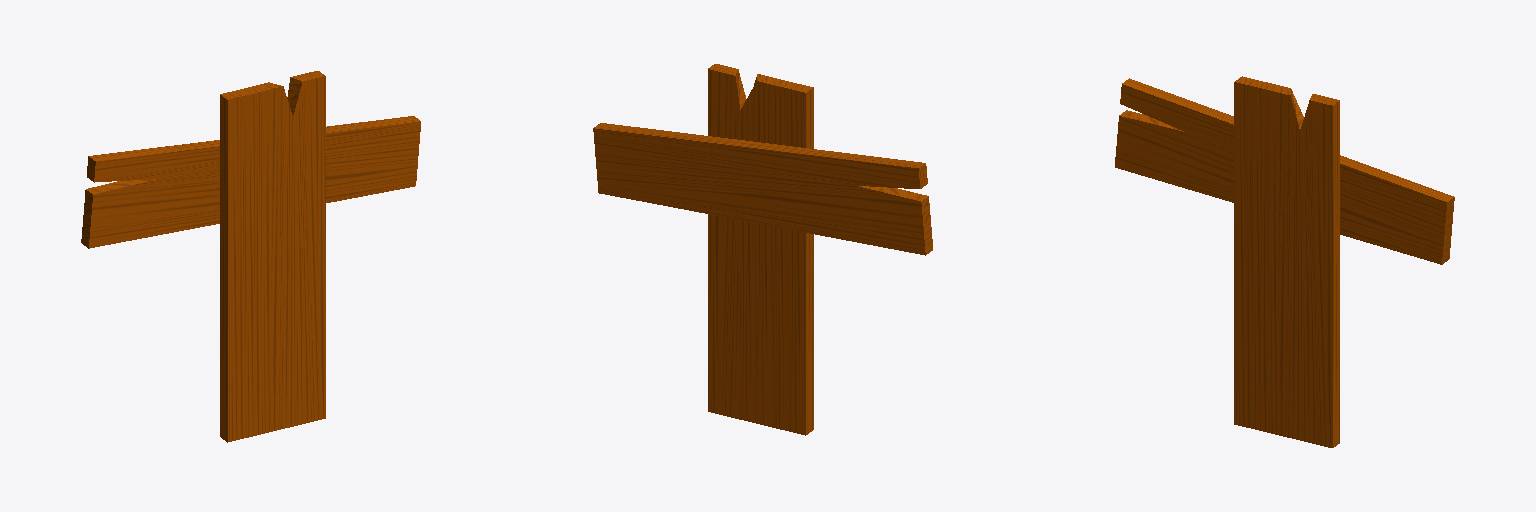
The picture shows the model from 3 angles: view 1: azimuth 30°, elevation 25°; view 2: azimuth 150°, elevation 25°; view 3: azimuth 330°, elevation 25°; orthographic projection.
Parts seen in each view (by area): view 1: Cube.002; view 2: Cube.002; view 3: Cube.002.
Boxes of the visible parts, <box> form: Cube.002: <box>81,71,420,442</box>; Cube.002: <box>593,64,932,435</box>; Cube.002: <box>1115,76,1454,447</box>.
Bounding box in the file's own units: 2.03 × 2 × 0.18.
1 materials, 1 textured.